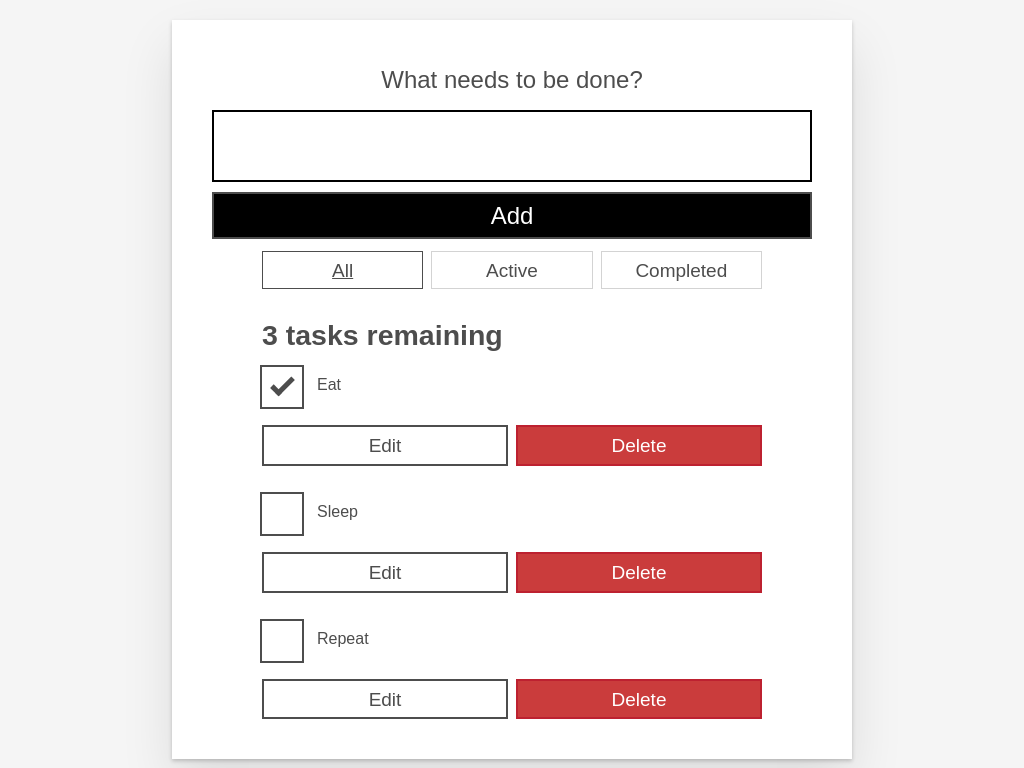
Scenario: Modifying a task › Editing Task Name
This screenshot has width=1024, height=768.
Click the 1st button "Edit".
click(385, 446)  # box [262,425,508,466]
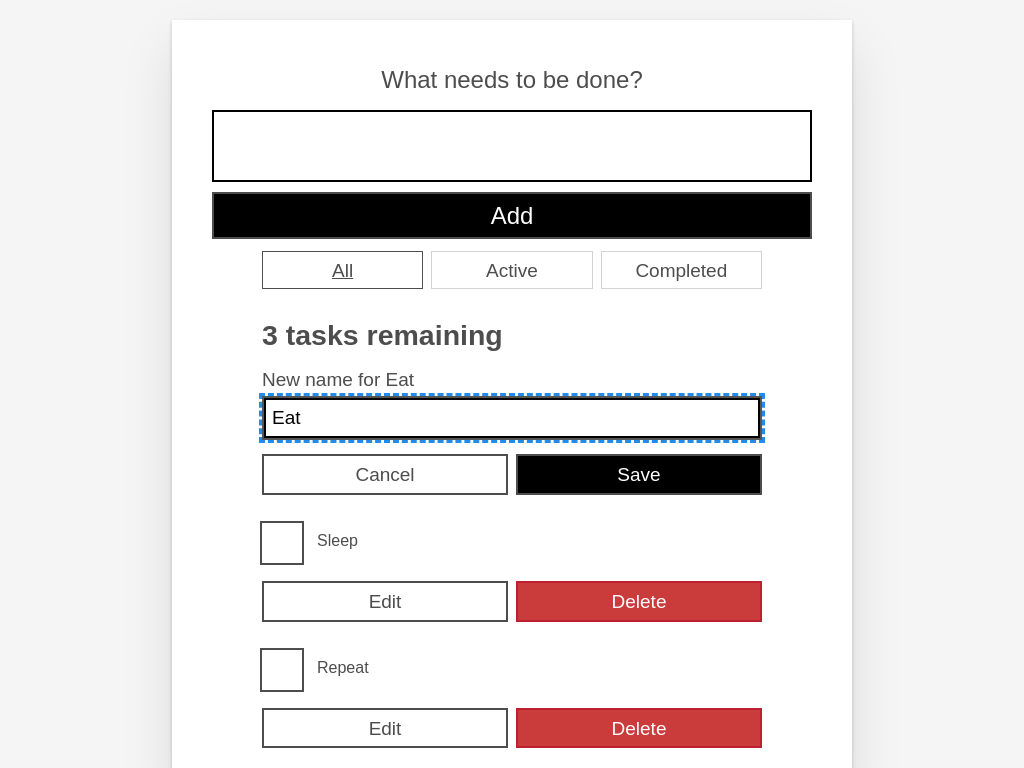
Type " More" into the field labelled "New name for Eat".
click(512, 418); type(" More")  # box [262,396,762,440]
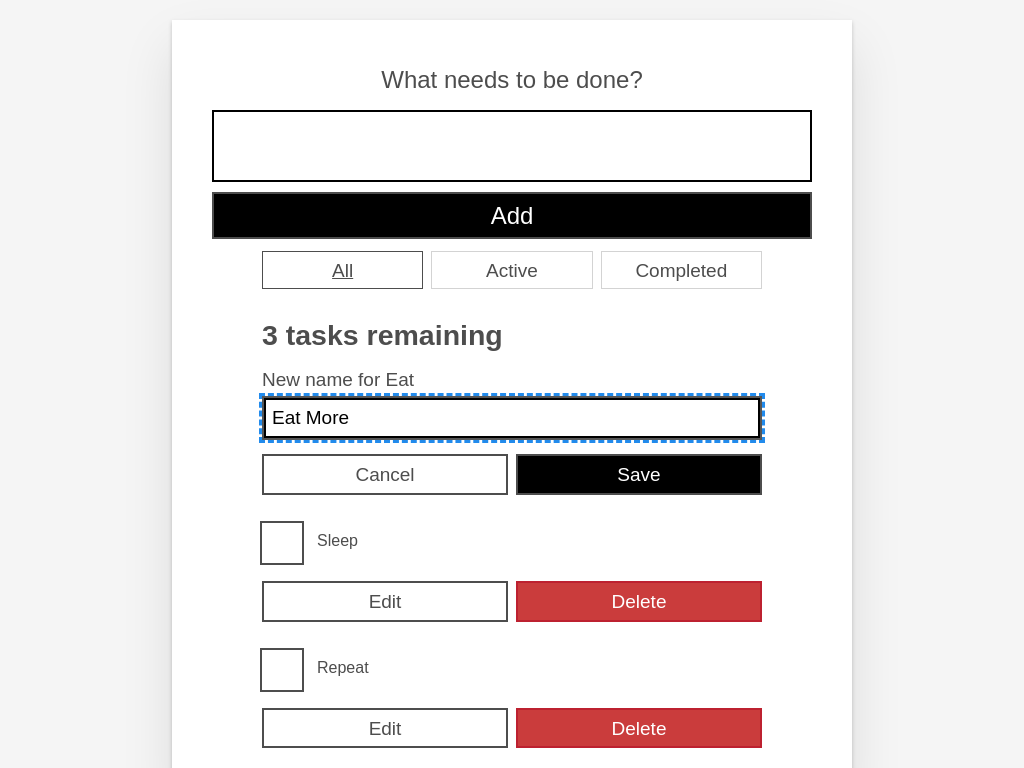
Click the button "Save".
click(639, 475)  # box [516,454,762,495]
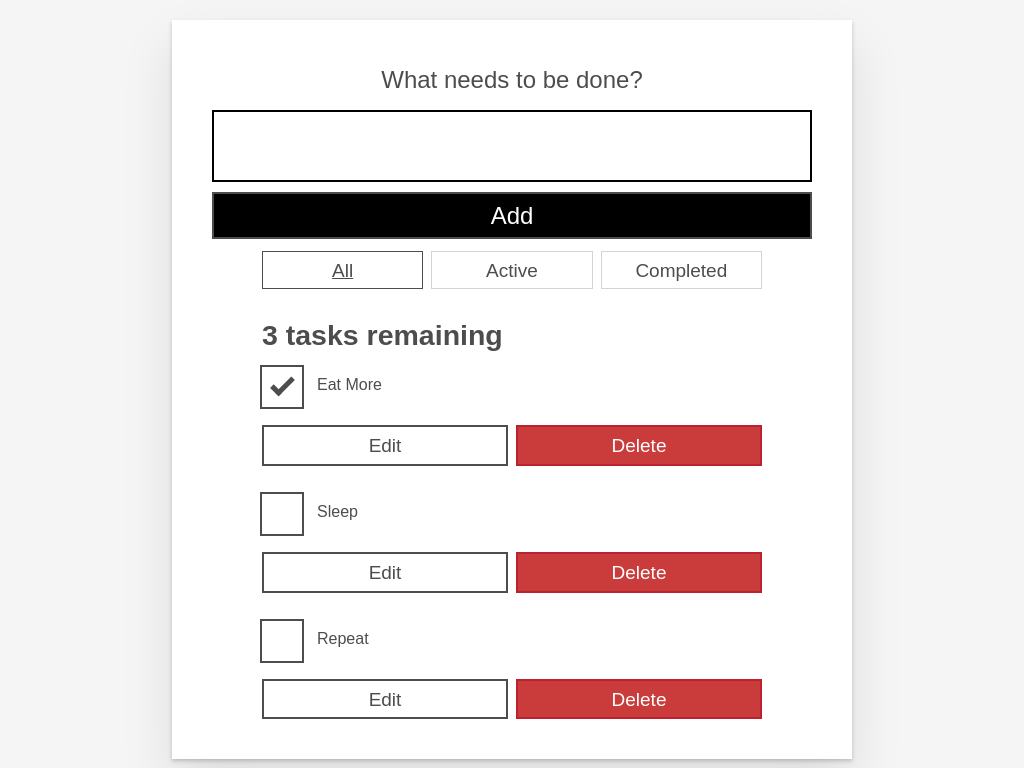
Expected: the checkbox "Eat More" is shown, [302,367,397,400]
